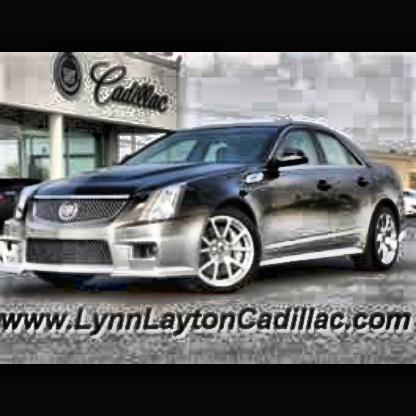Cadillac CTS-V Sedan 2012: (3, 126, 412, 299)
